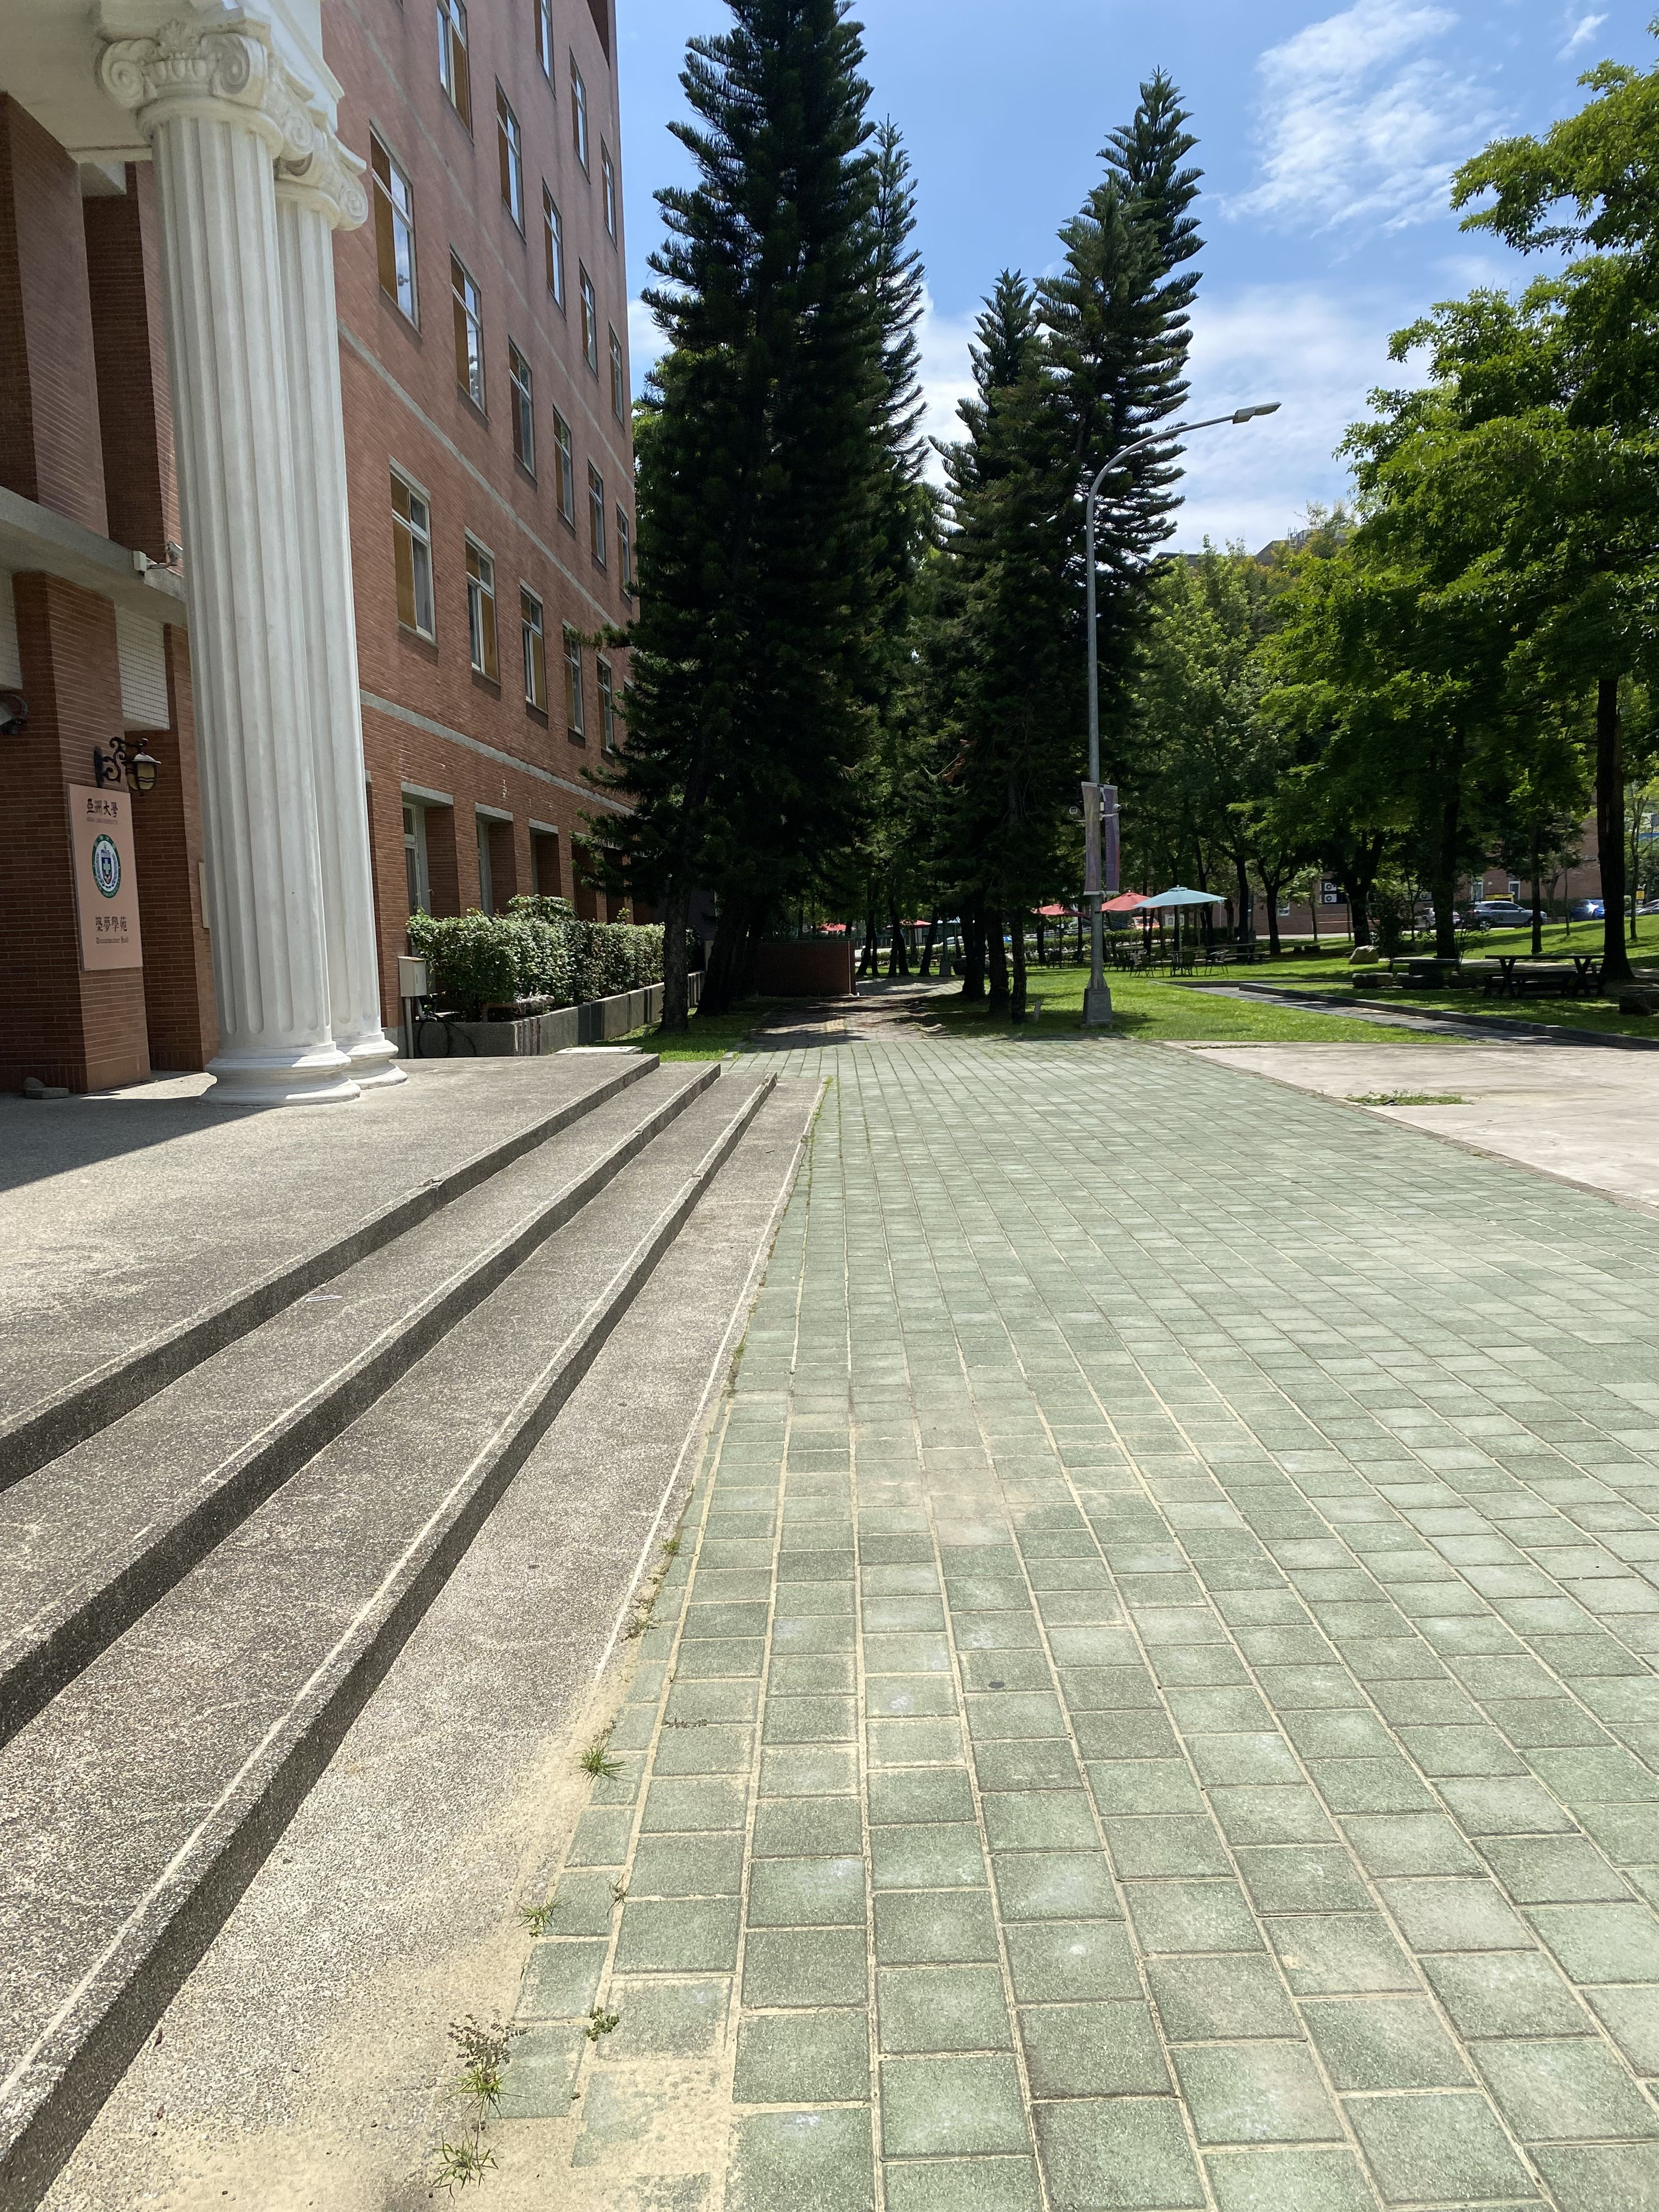sidewalk: (460, 932, 1659, 2212)
